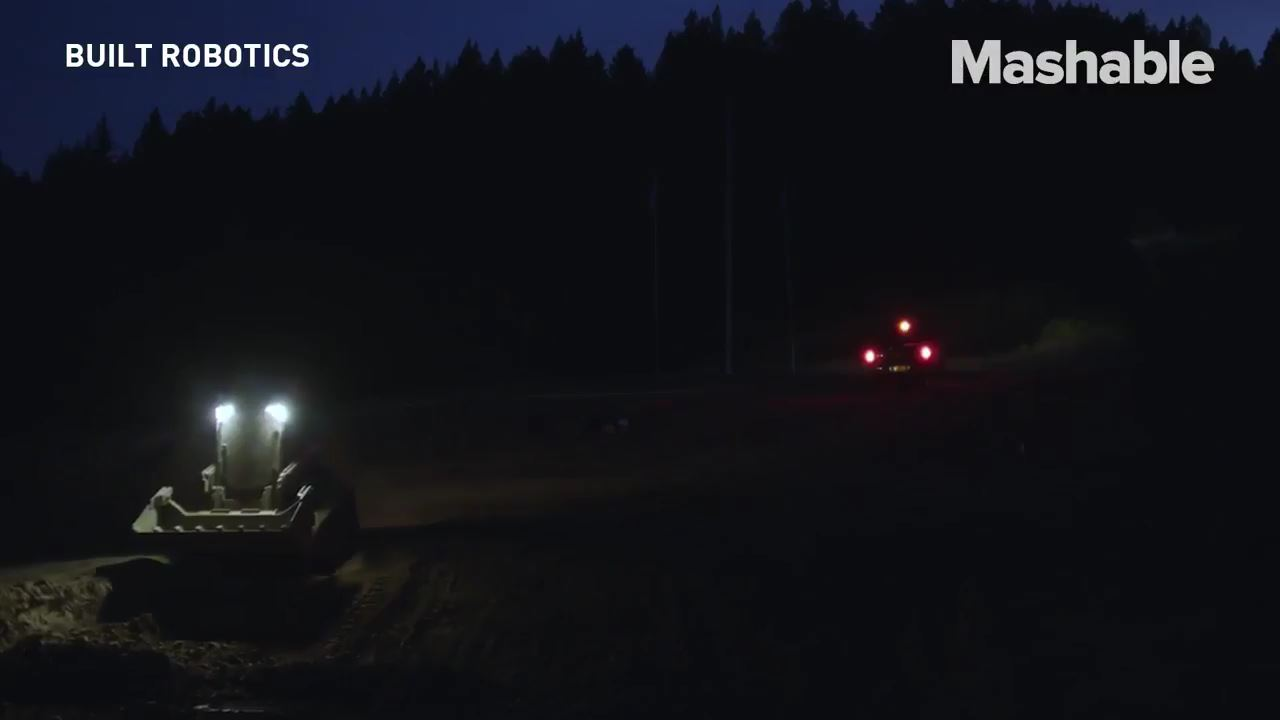con_eq: (128, 387, 405, 644), (855, 315, 970, 395)
